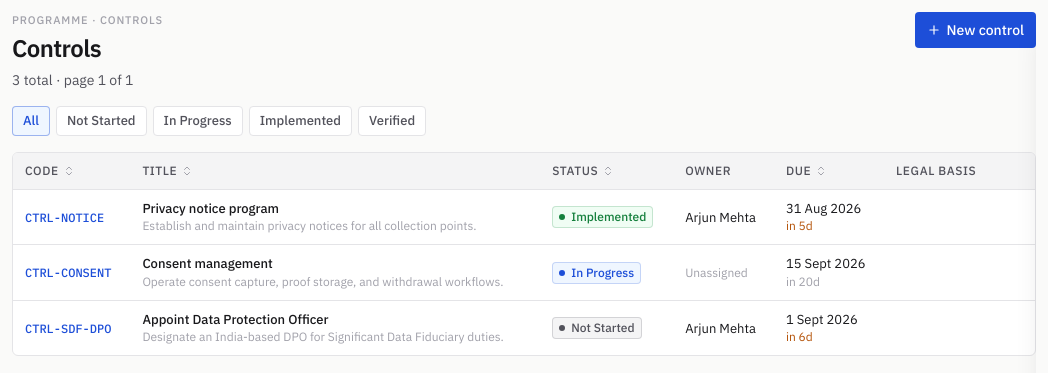
Test: ControlsView (§9.3) › filters by status
Check: the text "CTRL-NOTICE" is shown, box [25,210,104,225]
Click the button "Implemented" at [300, 121], box [249,106,352,136]
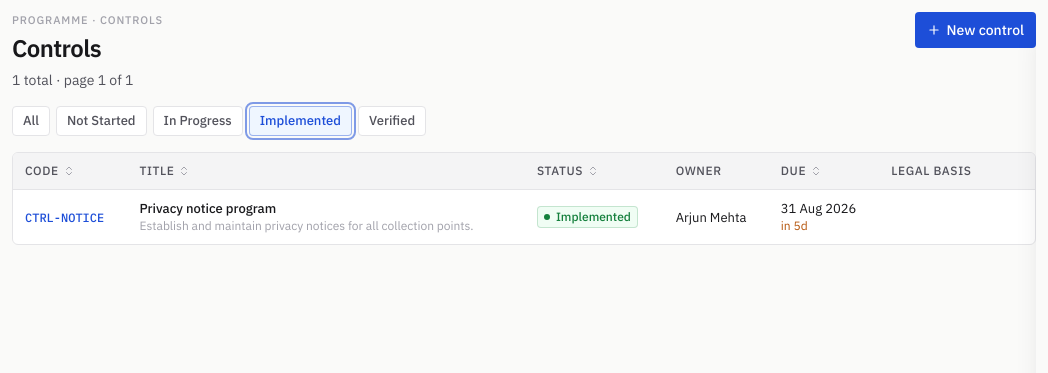
Check: the text "CTRL-NOTICE" is shown, box [25,210,104,225]
Check: the text "1 total · page 1 of 1" is shown, box [12,71,133,89]
Check: the text "CTRL-CONSENT" is gone
